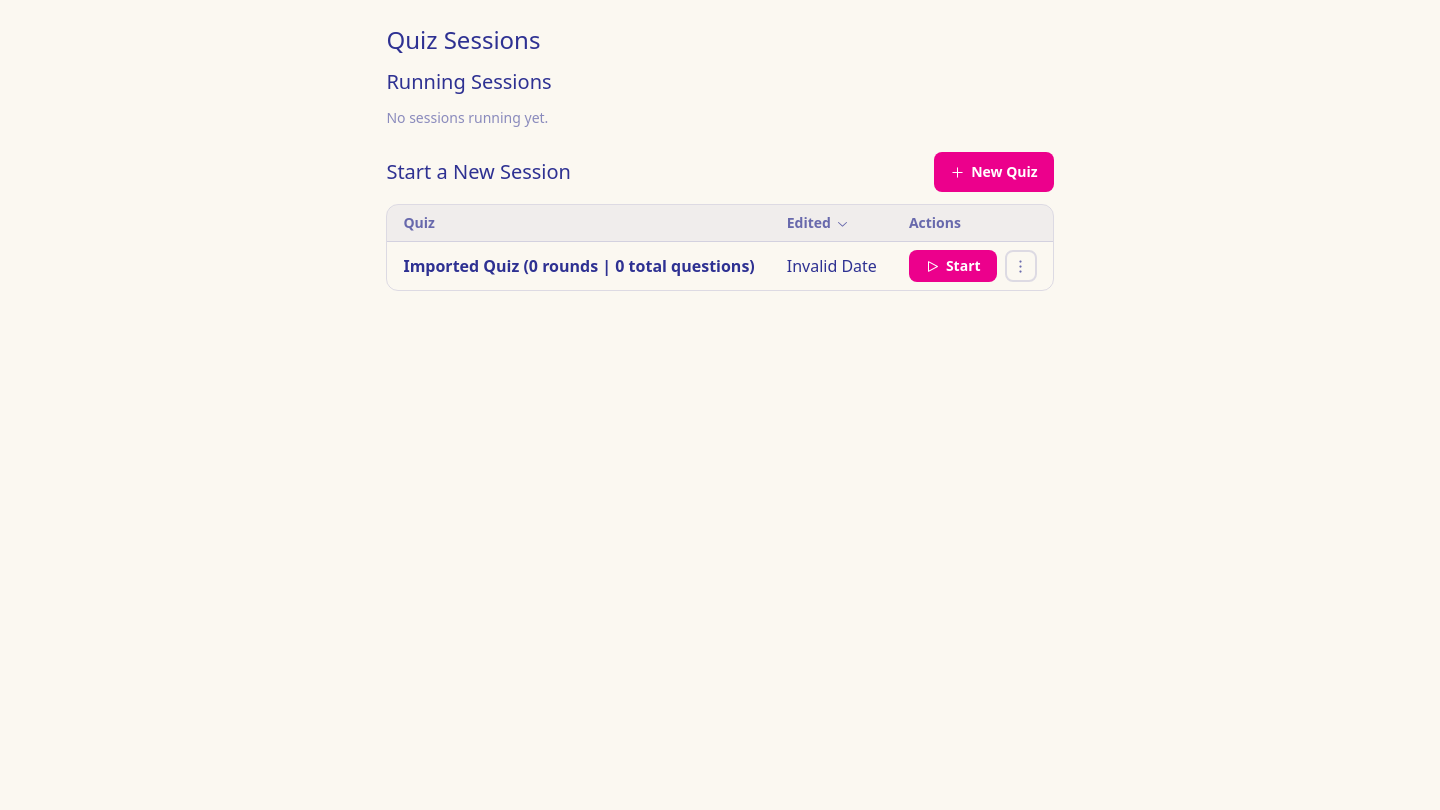
Test case: SessionPickerPanel › shows an error when creating a session fails
Step 1. Click the button "Start" → (953, 266), box [909,250,997,282]
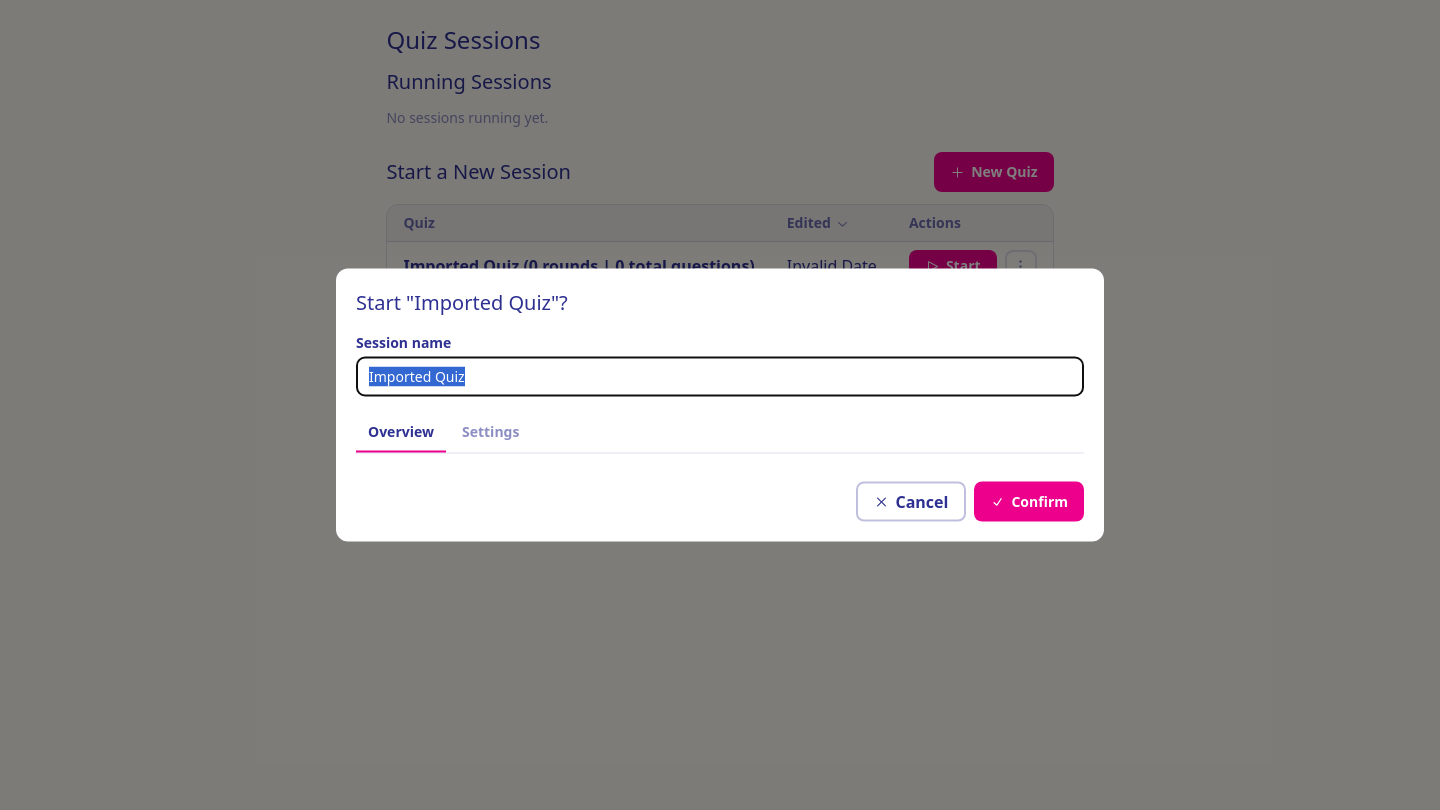
Step 2. Click the button "Confirm" → (1029, 502), box [974,482,1084,522]
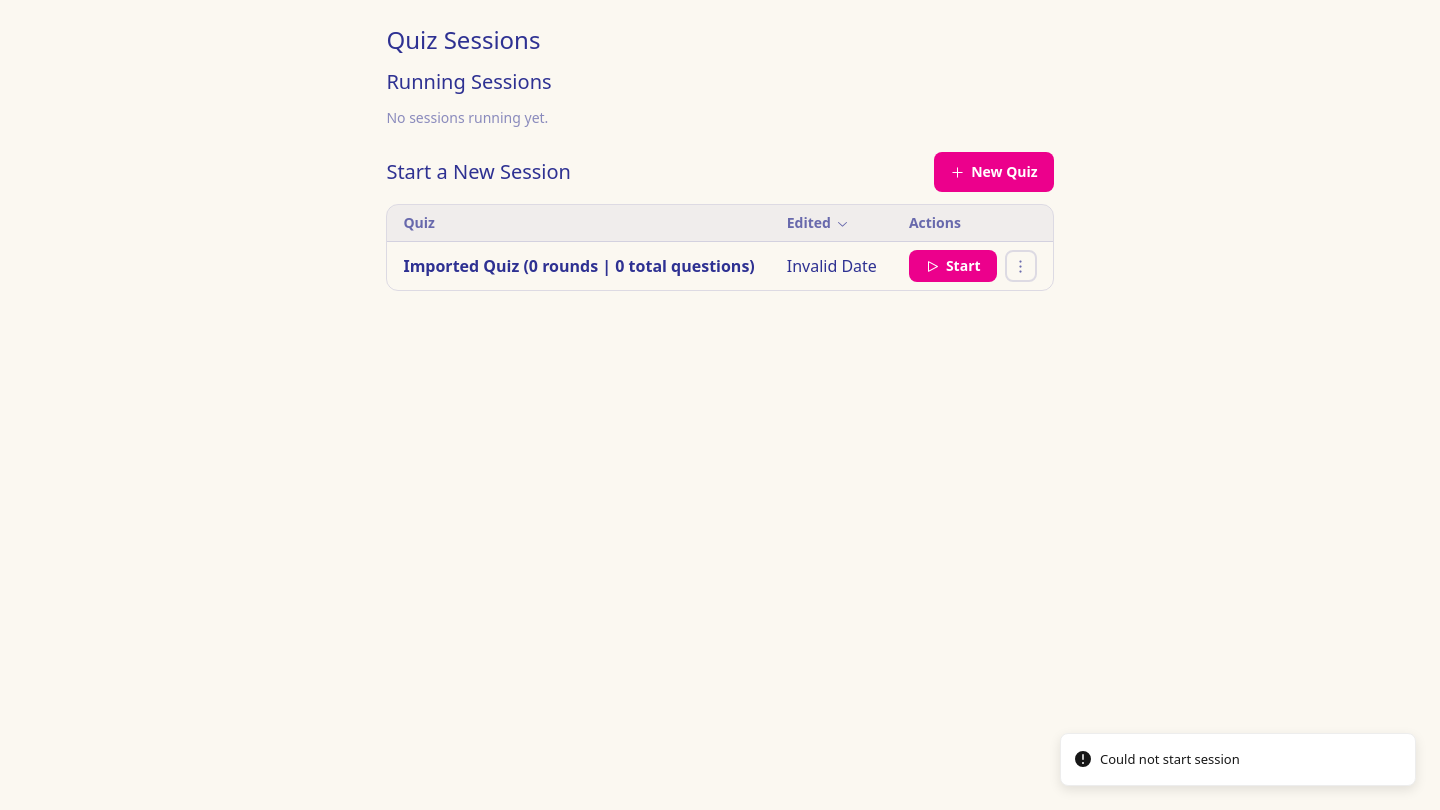
Now the text "Could not start session" is shown, box [1100,750,1240,769]
